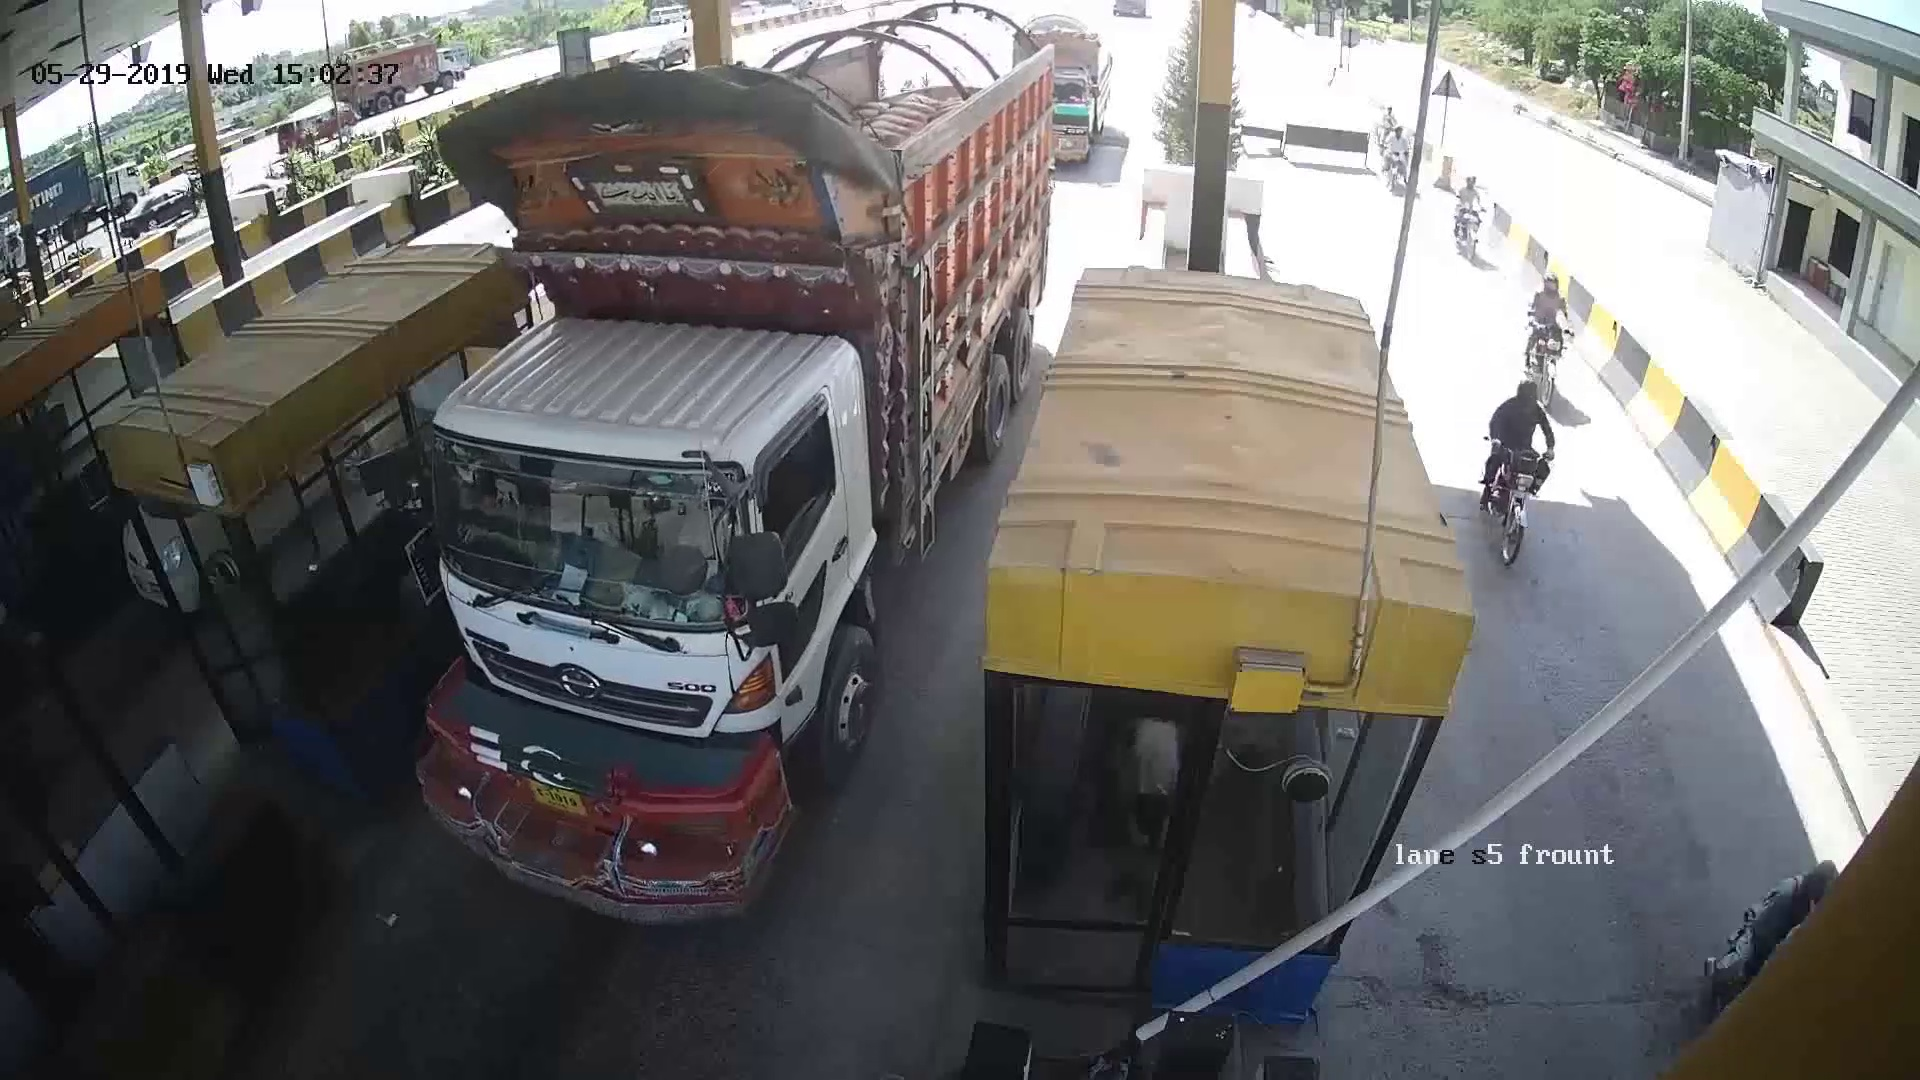truck: (435, 54, 1029, 866)
